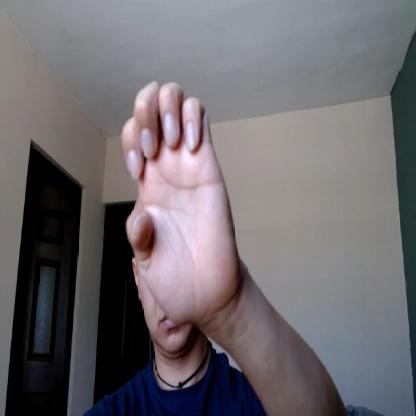E: (122, 79, 239, 325)
